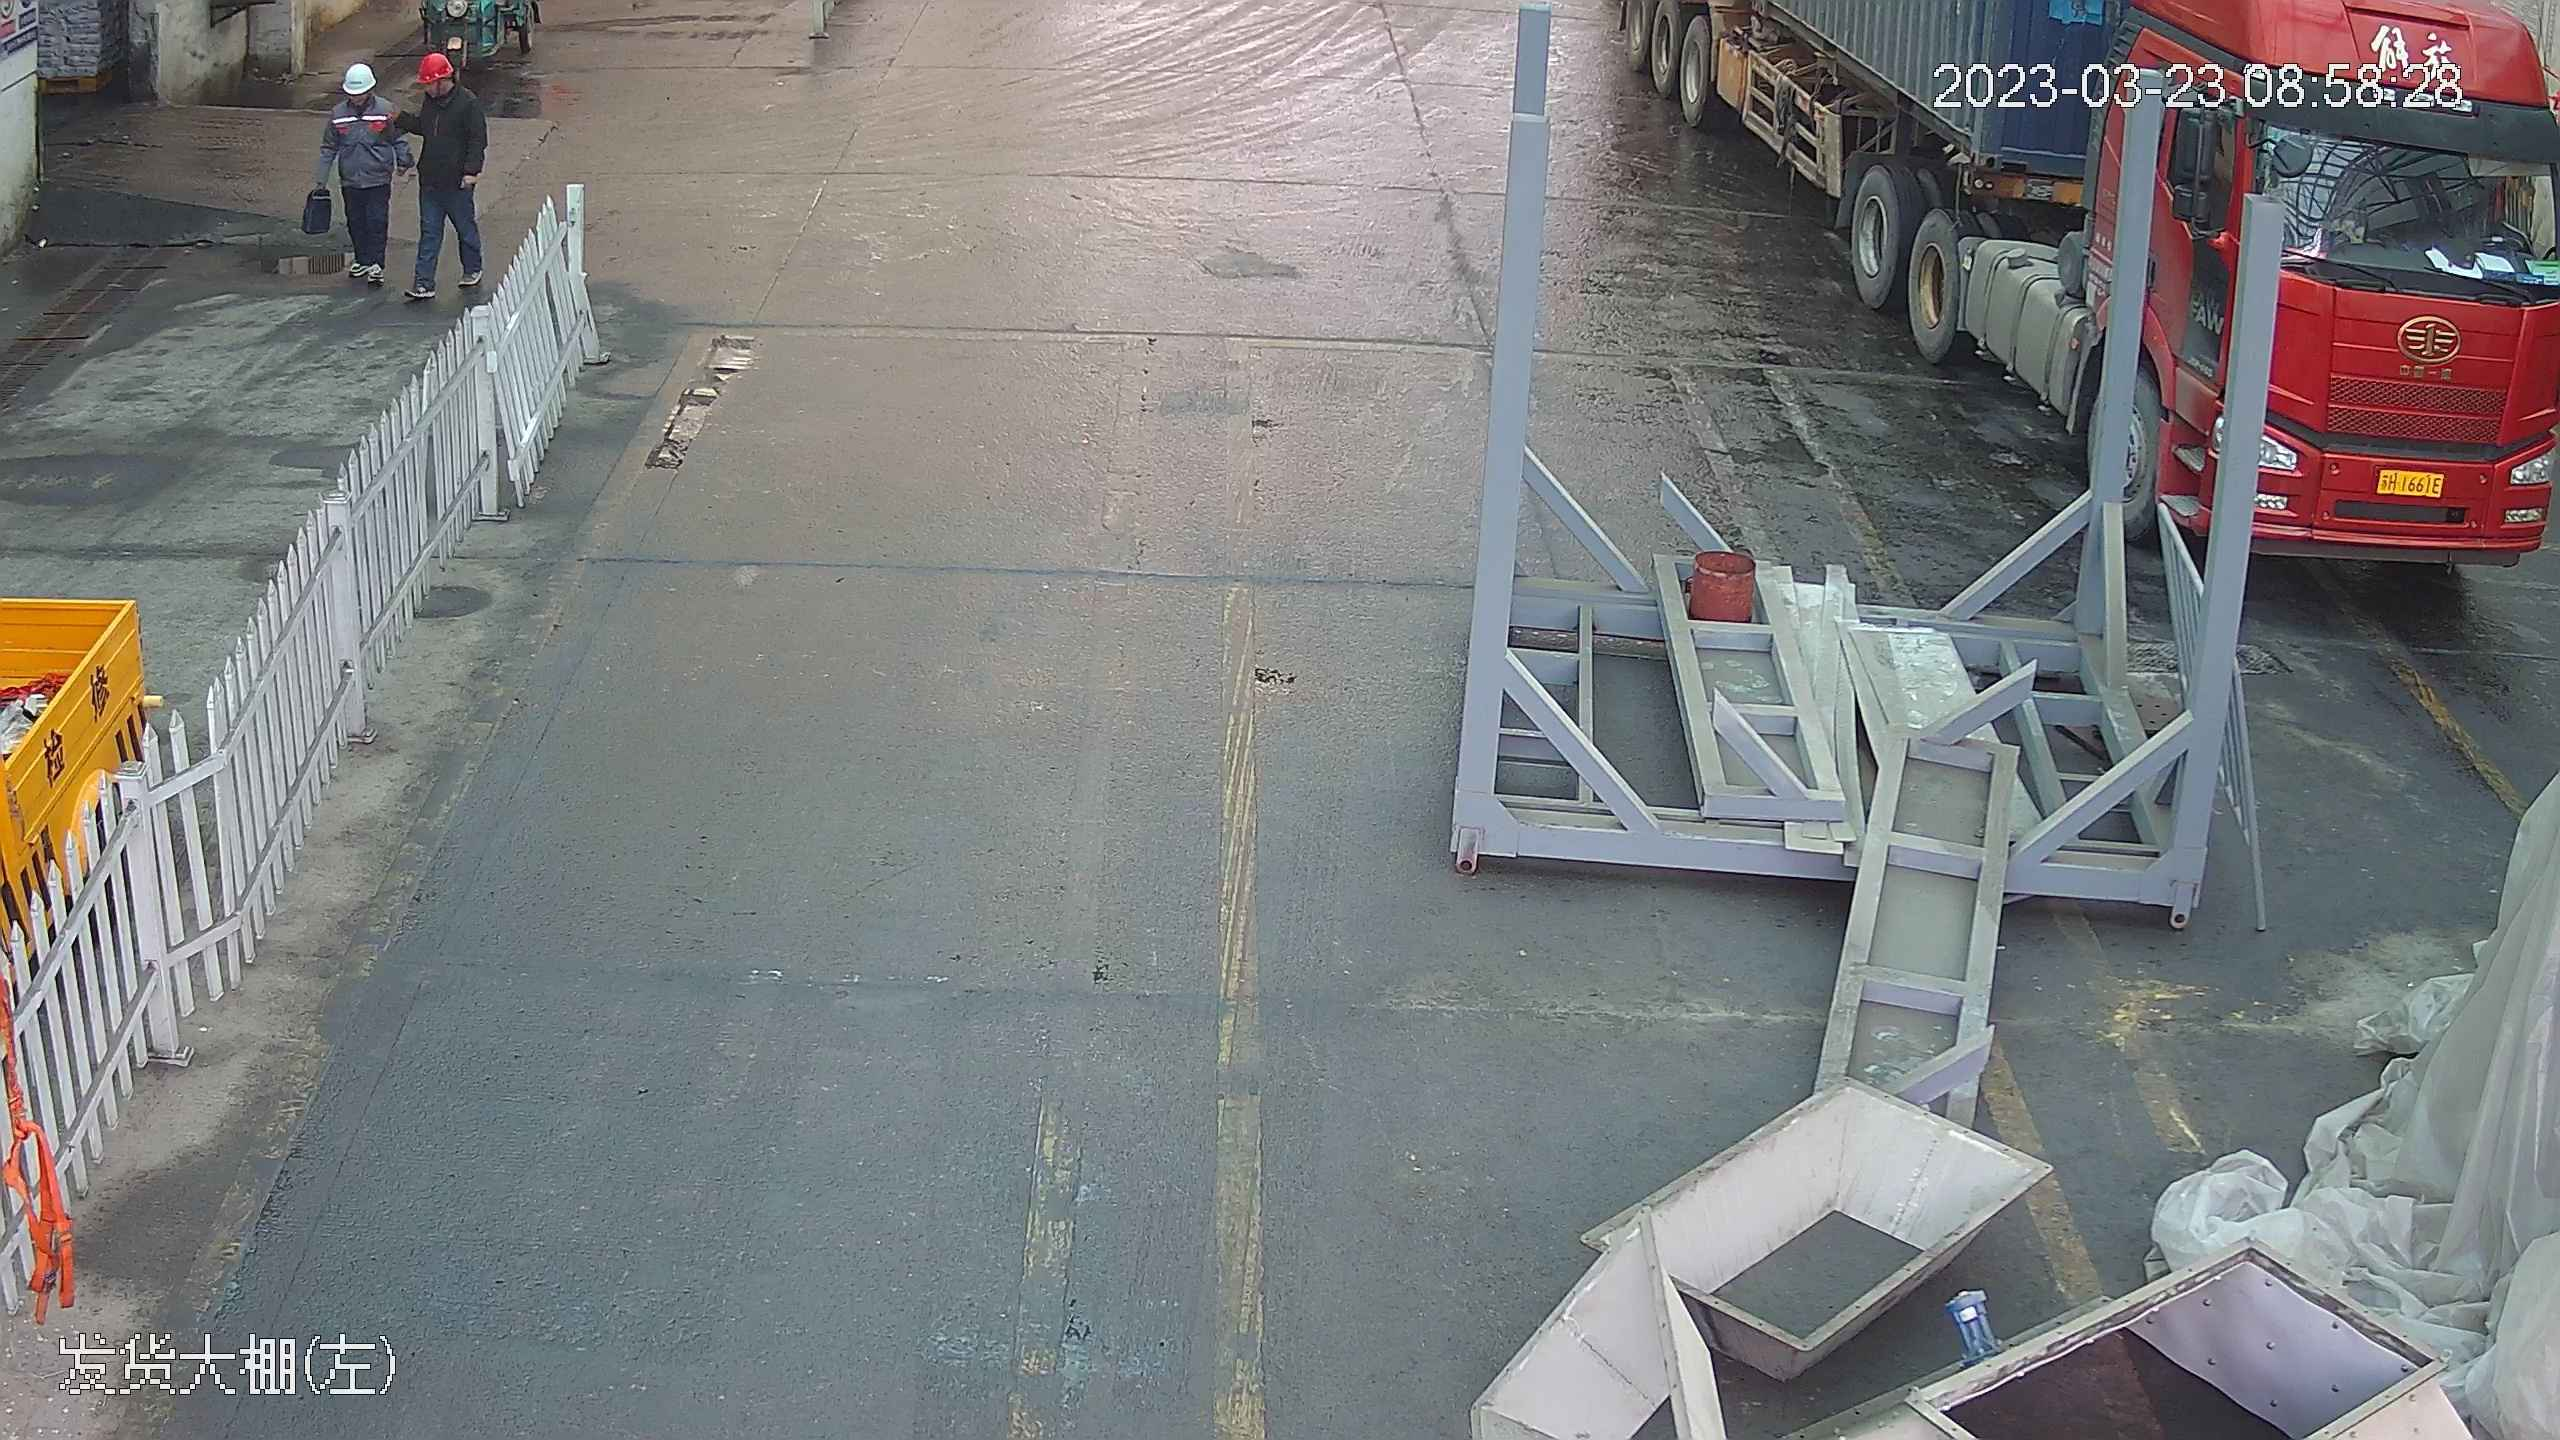head: (401, 50, 479, 135), (323, 58, 385, 140)
helmet: (335, 57, 379, 91), (416, 50, 457, 82)
people: (390, 48, 492, 305), (324, 46, 398, 296)
truck: (2094, 2, 2560, 565)
